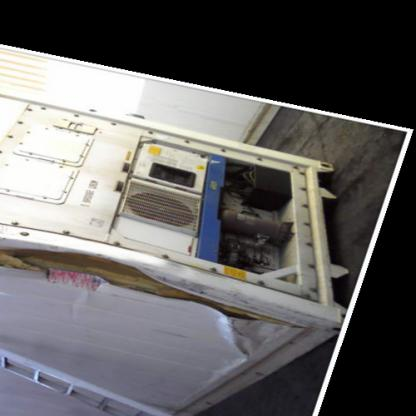Damage: (3, 224, 317, 360)
